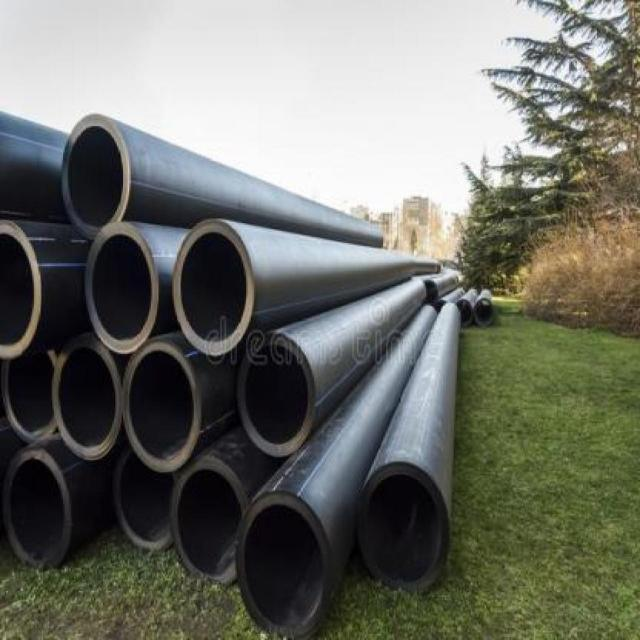pipe: (234, 490, 330, 638), (357, 460, 449, 591), (171, 218, 253, 357), (122, 339, 201, 472), (172, 457, 249, 585), (85, 222, 159, 353), (238, 333, 315, 457), (61, 113, 132, 237), (53, 335, 122, 460), (1, 447, 71, 569), (113, 449, 179, 551), (0, 220, 42, 359)
